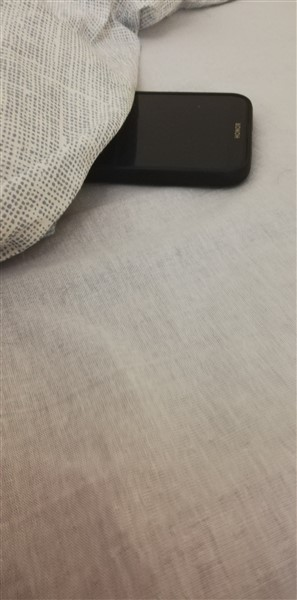telefon: (78, 84, 258, 191)
